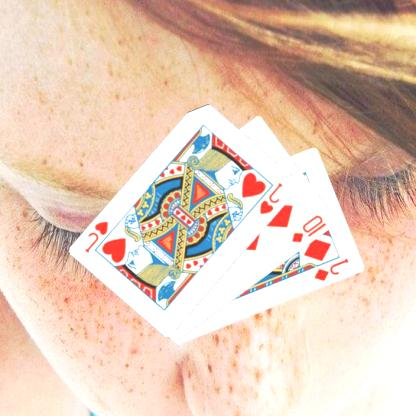10D: (290, 212, 330, 244)
JD: (313, 255, 352, 283)
JH: (84, 218, 112, 254), (259, 180, 286, 216)
